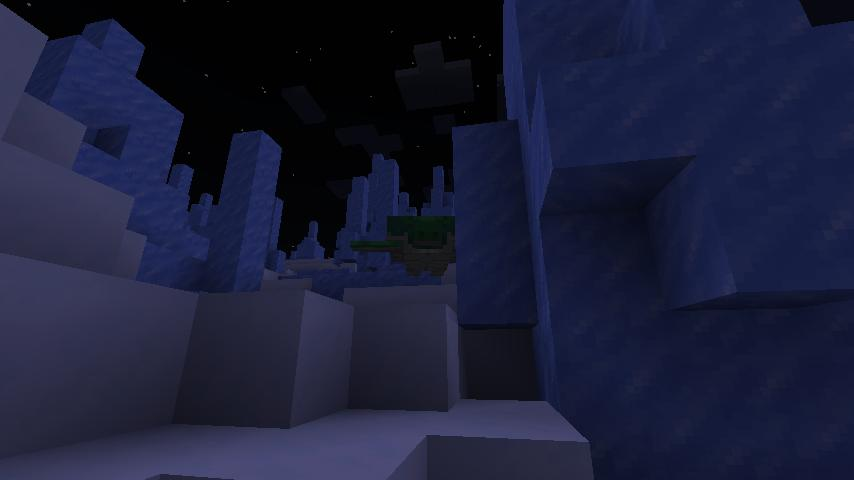turtle: (348, 211, 459, 276)
